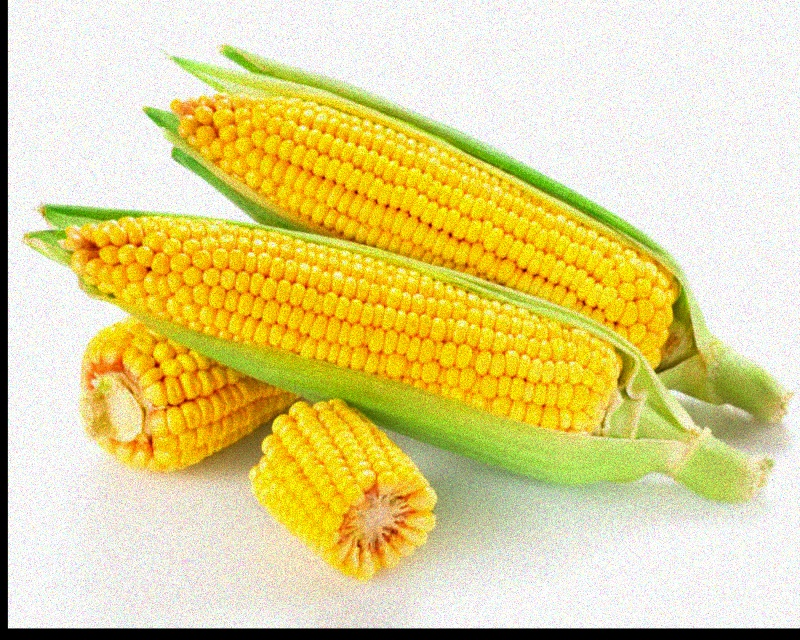corn: (164, 72, 777, 400), (49, 200, 697, 463)
